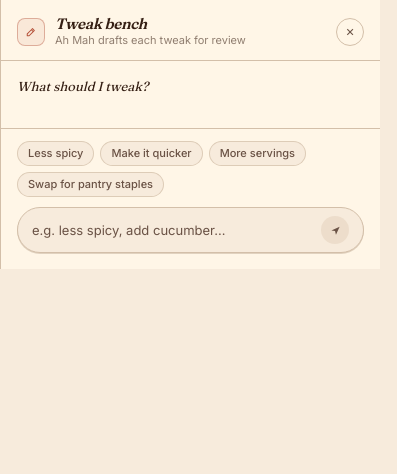
Test case: TweakBench streaming lifecycle (StrictMode) › clears the streaming state and reveals Save once a tweak completes
Click the button "Less spicy" at (56,154), box 17,141 -> 94,166
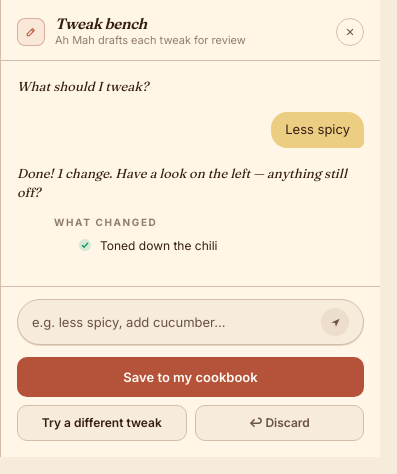
Check: the text "Toned down the chili" is shown, box 100,237 -> 218,254
Check: the button "Save to my cookbook" is shown, box 17,357 -> 364,397
